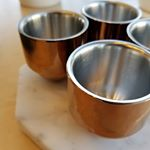cups: (62, 37, 150, 142)
